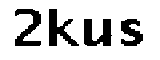2: (11, 5, 44, 50)
k: (47, 4, 80, 52)
s: (117, 14, 149, 53)
u: (81, 13, 112, 48)
